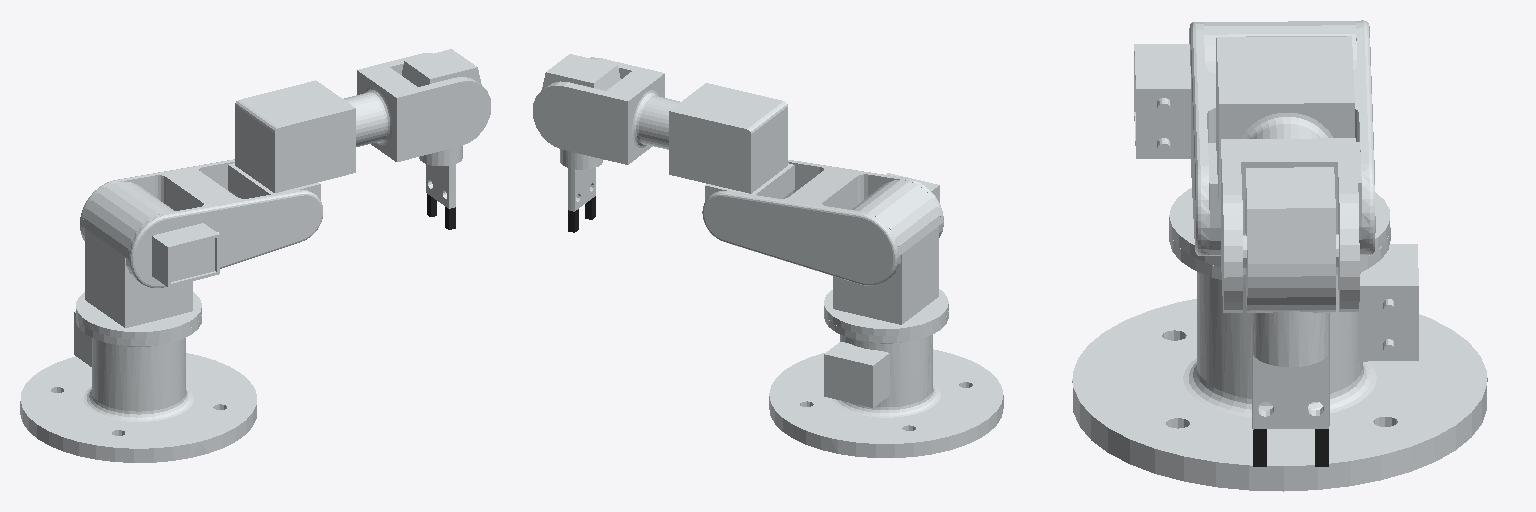
The robot description file, URDF, robot "Robot Kol Montaj":
<?xml version="1.0" encoding="utf-8"?>
<!-- This URDF was automatically created by SolidWorks to URDF Exporter! Originally created by [author] ([email redacted]) 
     Commit Version: 1.6.0-4-g7f85cfe  Build Version: 1.6.7995.38578
     For more information, please see http://wiki.ros.org/sw_urdf_exporter -->
<robot
  name="Robot Kol Montaj">
  <link
    name="base_link">
    <inertial>
      <origin
        xyz="-4.7945E-05 0.003264 0.01968"
        rpy="0 0 0" />
      <mass
        value="0.7705" />
      <inertia
        ixx="0.0010798"
        ixy="-7.823E-08"
        ixz="-1.9556E-18"
        iyy="0.0010843"
        iyz="-1.7902E-18"
        izz="0.0015157" />
    </inertial>
    <visual>
      <origin
        xyz="0 0 0"
        rpy="0 0 0" />
      <geometry>
        <mesh
          filename="package://Robot Kol Montaj/meshes/base_link.STL" />
      </geometry>
      <material
        name="">
        <color
          rgba="0.89804 0.91765 0.92941 1" />
      </material>
    </visual>
    <collision>
      <origin
        xyz="0 0 0"
        rpy="0 0 0" />
      <geometry>
        <mesh
          filename="package://Robot Kol Montaj/meshes/base_link.STL" />
      </geometry>
    </collision>
  </link>
  <link
    name="Link_1">
    <inertial>
      <origin
        xyz="-4.1633E-17 -4.8572E-17 0.013474"
        rpy="0 0 0" />
      <mass
        value="0.77072" />
      <inertia
        ixx="0.0011517"
        ixy="2.4414E-07"
        ixz="3.5534E-18"
        iyy="0.0011377"
        iyz="3.0508E-18"
        izz="0.00031743" />
    </inertial>
    <visual>
      <origin
        xyz="0 0 0"
        rpy="0 0 0" />
      <geometry>
        <mesh
          filename="package://Robot Kol Montaj/meshes/Link_1.STL" />
      </geometry>
      <material
        name="">
        <color
          rgba="0.89804 0.91765 0.92941 1" />
      </material>
    </visual>
    <collision>
      <origin
        xyz="0 0 0"
        rpy="0 0 0" />
      <geometry>
        <mesh
          filename="package://Robot Kol Montaj/meshes/Link_1.STL" />
      </geometry>
    </collision>
  </link>
  <joint
    name="Joint_1"
    type="revolute">
    <origin
      xyz="0 0 0.0725"
      rpy="0 0 0" />
    <parent
      link="base_link" />
    <child
      link="Link_1" />
    <axis
      xyz="-0.017452 0.99985 0" />
    <limit
      lower="-3.142"
      upper="3.142"
      effort="1.041"
      velocity="7" />
  </joint>
  <link
    name="Link_2">
    <inertial>
      <origin
        xyz="0.040724 -2.1651E-10 -0.0045037"
        rpy="0 0 0" />
      <mass
        value="0.42915" />
      <inertia
        ixx="0.00024908"
        ixy="-4.2115E-12"
        ixz="-3.4302E-06"
        iyy="0.00059025"
        iyz="-1.2598E-12"
        izz="0.00044602" />
    </inertial>
    <visual>
      <origin
        xyz="0 0 0"
        rpy="0 0 0" />
      <geometry>
        <mesh
          filename="package://Robot Kol Montaj/meshes/Link_2.STL" />
      </geometry>
      <material
        name="">
        <color
          rgba="0.89804 0.91765 0.92941 1" />
      </material>
    </visual>
    <collision>
      <origin
        xyz="0 0 0"
        rpy="0 0 0" />
      <geometry>
        <mesh
          filename="package://Robot Kol Montaj/meshes/Link_2.STL" />
      </geometry>
    </collision>
  </link>
  <joint
    name="Joint_3"
    type="revolute">
    <origin
      xyz="0 0 0.0525"
      rpy="-1.5708 0 0" />
    <parent
      link="Link_1" />
    <child
      link="Link_2" />
    <axis
      xyz="0.017452 0 -0.99985" />
    <limit
      lower="0"
      upper="1.57"
      effort="2.31"
      velocity="7" />
  </joint>
  <link
    name="Link_3">
    <inertial>
      <origin
        xyz="0.033386 0.039528 0.00068996"
        rpy="0 0 0" />
      <mass
        value="0.76232" />
      <inertia
        ixx="0.0015582"
        ixy="-0.00019936"
        ixz="-3.4799E-06"
        iyy="0.00043677"
        iyz="-2.1318E-05"
        izz="0.0016577" />
    </inertial>
    <visual>
      <origin
        xyz="0 0 0"
        rpy="0 0 0" />
      <geometry>
        <mesh
          filename="package://Robot Kol Montaj/meshes/Link_3.STL" />
      </geometry>
      <material
        name="">
        <color
          rgba="0.89804 0.91765 0.92941 1" />
      </material>
    </visual>
    <collision>
      <origin
        xyz="0 0 0"
        rpy="0 0 0" />
      <geometry>
        <mesh
          filename="package://Robot Kol Montaj/meshes/Link_3.STL" />
      </geometry>
    </collision>
  </link>
  <joint
    name="Joint_4"
    type="revolute">
    <origin
      xyz="0.099985 0 0.0017452"
      rpy="0 0 -1.5708" />
    <parent
      link="Link_2" />
    <child
      link="Link_3" />
    <axis
      xyz="0 0.017452 -0.99985" />
    <limit
      lower="-1.57"
      upper="0"
      effort="2.0098"
      velocity="7" />
  </joint>
  <link
    name="Link_4">
    <inertial>
      <origin
        xyz="5.7562E-10 0.0060378 -3.7556E-10"
        rpy="0 0 0" />
      <mass
        value="0.18788" />
      <inertia
        ixx="9.5456E-05"
        ixy="-2.0317E-12"
        ixz="-1.3519E-07"
        iyy="3.7032E-05"
        iyz="1.157E-12"
        izz="0.0001032" />
    </inertial>
    <visual>
      <origin
        xyz="0 0 0"
        rpy="0 0 0" />
      <geometry>
        <mesh
          filename="package://Robot Kol Montaj/meshes/Link_4.STL" />
      </geometry>
      <material
        name="">
        <color
          rgba="0.89804 0.91765 0.92941 1" />
      </material>
    </visual>
    <collision>
      <origin
        xyz="0 0 0"
        rpy="0 0 0" />
      <geometry>
        <mesh
          filename="package://Robot Kol Montaj/meshes/Link_4.STL" />
      </geometry>
    </collision>
  </link>
  <joint
    name="Joint_5"
    type="revolute">
    <origin
      xyz="0.04 0.12298 0.0021466"
      rpy="0 0 1.5708" />
    <parent
      link="Link_3" />
    <child
      link="Link_4" />
    <axis
      xyz="0.017452 0 -0.99985" />
    <limit
      lower="0"
      upper="1.57"
      effort="0.6084"
      velocity="7" />
  </joint>
  <link
    name="Link_5">
    <inertial>
      <origin
        xyz="-0.0024996 4.4101E-05 0.0075"
        rpy="0 0 0" />
      <mass
        value="0.002025" />
      <inertia
        ixx="4.2187E-08"
        ixy="1.0245E-24"
        ixz="-1.731E-22"
        iyy="4.2187E-08"
        iyz="1.351E-22"
        izz="8.4375E-09" />
    </inertial>
    <visual>
      <origin
        xyz="0 0 0"
        rpy="0 0 0" />
      <geometry>
        <mesh
          filename="package://Robot Kol Montaj/meshes/Link_5.STL" />
      </geometry>
      <material
        name="">
        <color
          rgba="0.2 0.2 0.2 1" />
      </material>
    </visual>
    <collision>
      <origin
        xyz="0 0 0"
        rpy="0 0 0" />
      <geometry>
        <mesh
          filename="package://Robot Kol Montaj/meshes/Link_5.STL" />
      </geometry>
    </collision>
  </link>
  <joint
    name="Joint_7"
    type="prismatic">
    <origin
      xyz="0.0024996 0.07 4.3631E-05"
      rpy="-1.5708 0 0" />
    <parent
      link="Link_4" />
    <child
      link="Link_5" />
    <axis
      xyz="0.017452 0.99985 0" />
    <limit
      lower="0"
      upper="0.03"
      effort="0.3042"
      velocity="7" />
  </joint>
</robot>

--- What the picture shows (computed from the rendered views, not written in the file) ---
The picture shows the robot from 3 angles, left to right: view 1: azimuth 30°, elevation 25°; view 2: azimuth 150°, elevation 25°; view 3: azimuth 270°, elevation 25°; orthographic projection.
Model Robot Kol Montaj with 6 links and 5 joints (4 revolute, 1 prismatic), rooted at base_link, posed all joints at 0.
Visible links, largest first — view 1: base_link, Link_3, Link_2, Link_1, Link_4; view 2: base_link, Link_3, Link_2, Link_1, Link_4; view 3: base_link, Link_3, Link_4, Link_2, Link_1, Link_5.
Boxes of the visible links, box(x1,y1,x2,y2) form: base_link: box(20, 311, 256, 462); Link_3: box(228, 53, 490, 200); Link_2: box(80, 159, 322, 287); Link_1: box(76, 181, 201, 338); Link_4: box(402, 49, 481, 208); base_link: box(769, 311, 1003, 457); Link_3: box(533, 57, 794, 200); Link_2: box(702, 160, 943, 285); Link_1: box(824, 180, 948, 335); Link_4: box(542, 54, 620, 211); base_link: box(1072, 227, 1487, 491); Link_3: box(1208, 36, 1361, 312); Link_4: box(1245, 167, 1335, 429); Link_2: box(1134, 20, 1375, 255); Link_1: box(1169, 21, 1389, 267); Link_5: box(1253, 429, 1328, 466).
Size in the robot's own frame: 0.3209 by 0.15 by 0.19 metres.
6 mesh visuals loaded from 6 distinct referenced files (6 binary STL).